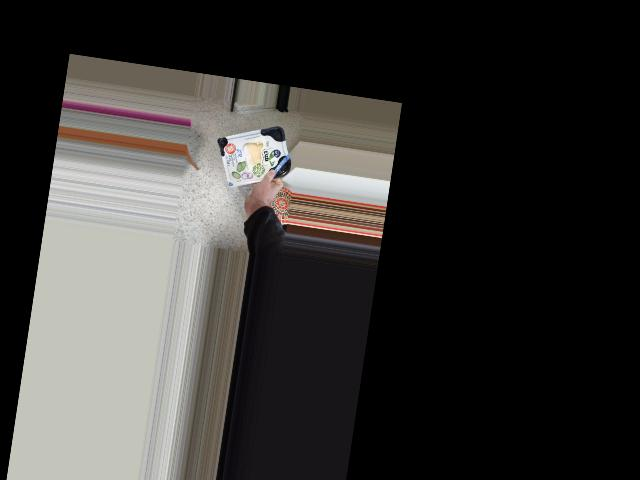cheese: (219, 131, 286, 187)
